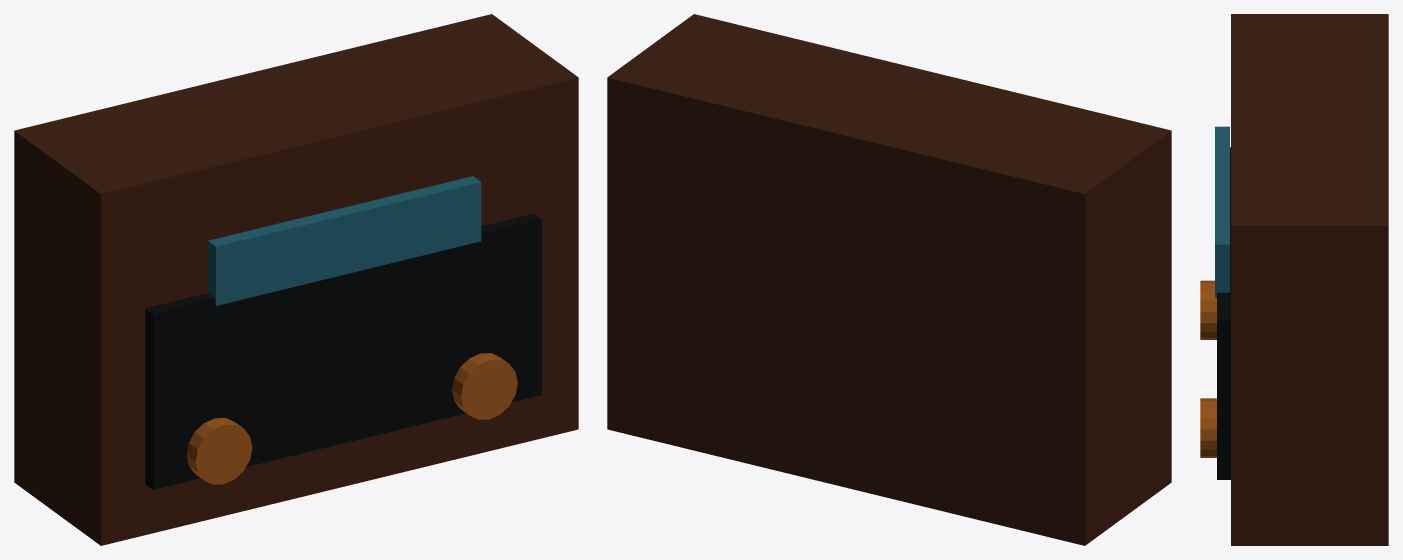
The picture shows the model from 3 angles, left to right: view 1: azimuth 30°, elevation 25°; view 2: azimuth 150°, elevation 25°; view 3: azimuth 270°, elevation 25°; orthographic projection. The views are drawn at different scales.
Visible parts, largest first — view 1: dark_wood, rubber, glass, brass; view 2: dark_wood; view 3: dark_wood, rubber, glass, brass.
Boxes of the visible parts, <box> form: dark_wood: <box>14,14,578,545</box>; rubber: <box>145,213,542,489</box>; glass: <box>207,176,481,305</box>; brass: <box>186,353,517,484</box>; dark_wood: <box>607,14,1171,545</box>; dark_wood: <box>1231,14,1388,545</box>; rubber: <box>1217,147,1230,479</box>; glass: <box>1215,126,1229,298</box>; brass: <box>1200,280,1216,457</box>.
Bounding box in the file's own units: 2.7 × 1.9 × 1.01.
